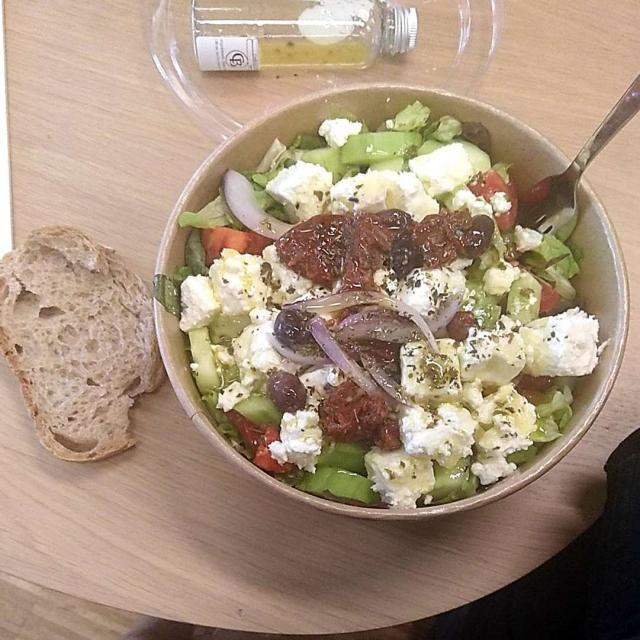bread: (5, 234, 156, 463)
salad: (183, 124, 591, 493), (522, 155, 589, 445), (196, 180, 252, 434), (255, 114, 491, 160)
tomato: (265, 211, 492, 453)
